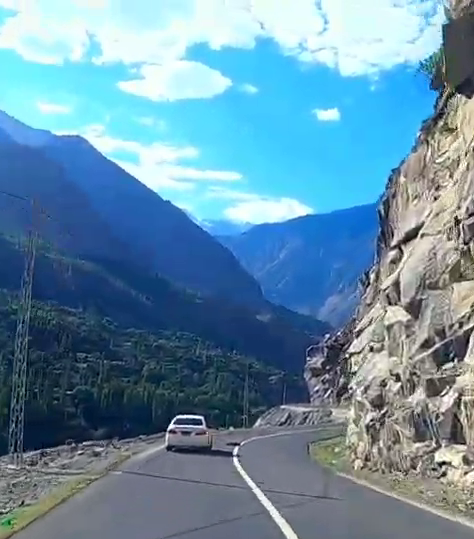stright: (179, 404, 374, 512)
